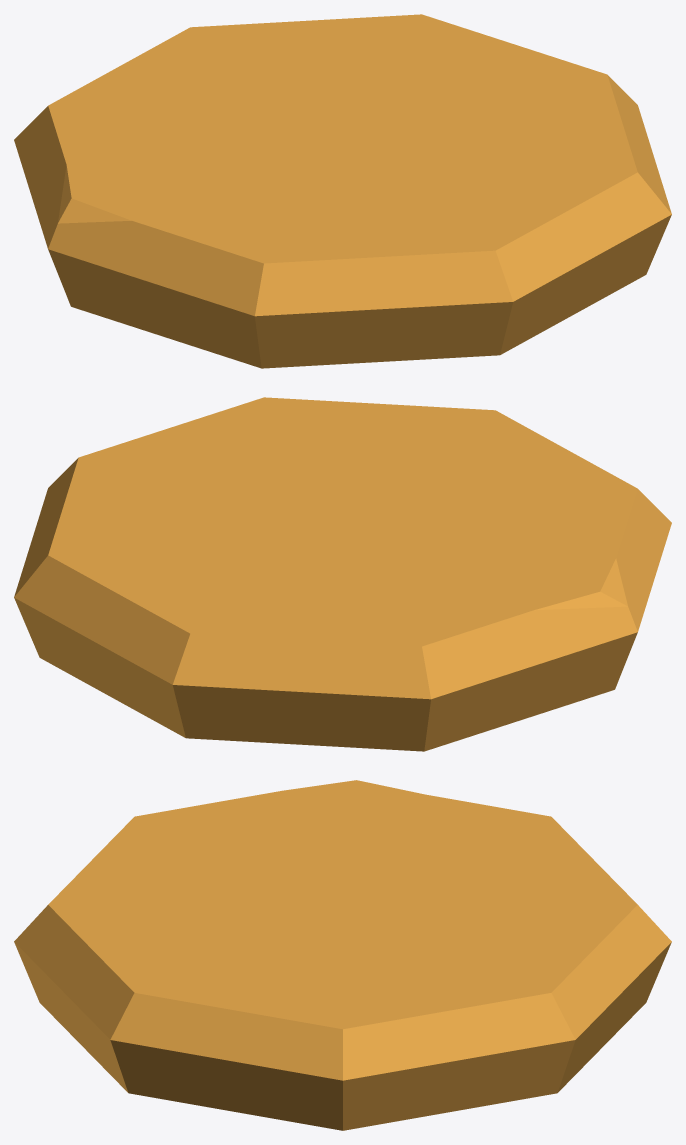
Rendered from food-cookie.glb.
3 views of the same model, one above another, from view 1: azimuth 30°, elevation 25°; view 2: azimuth 150°, elevation 25°; view 3: azimuth 270°, elevation 25° (orthographic). The views are drawn at different scales.
Parts seen in each view (by area): view 1: cookie; view 2: cookie; view 3: cookie.
Boxes of the visible parts, bbox=[...] form: cookie: bbox=[14, 14, 671, 368]; cookie: bbox=[14, 397, 671, 751]; cookie: bbox=[14, 780, 671, 1130].
Bounding box in the file's own units: 0.1023 × 0.0168 × 0.1023.
